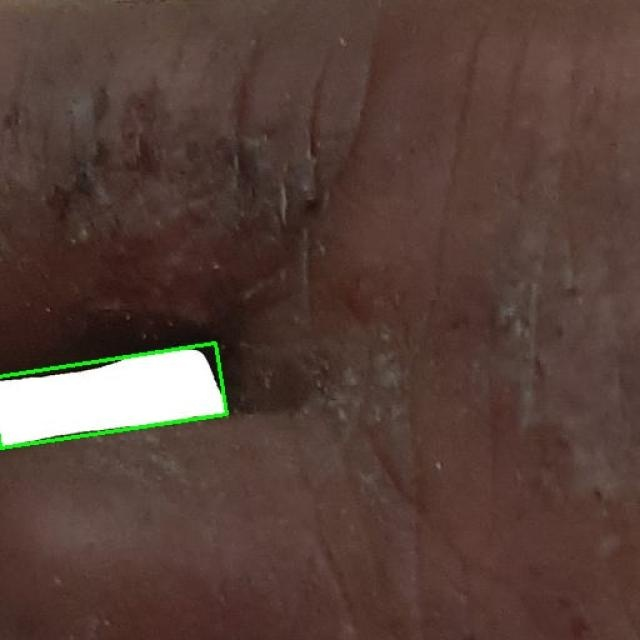Eczema: (0, 343, 227, 449)
